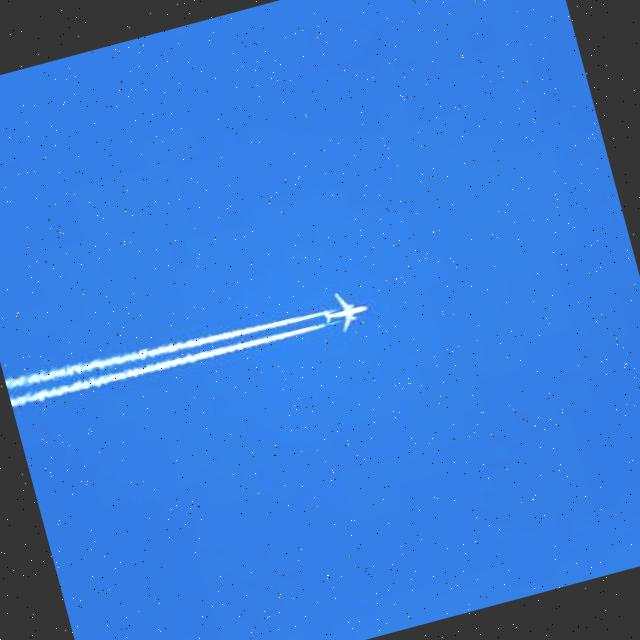Cu: (3, 286, 325, 422)
